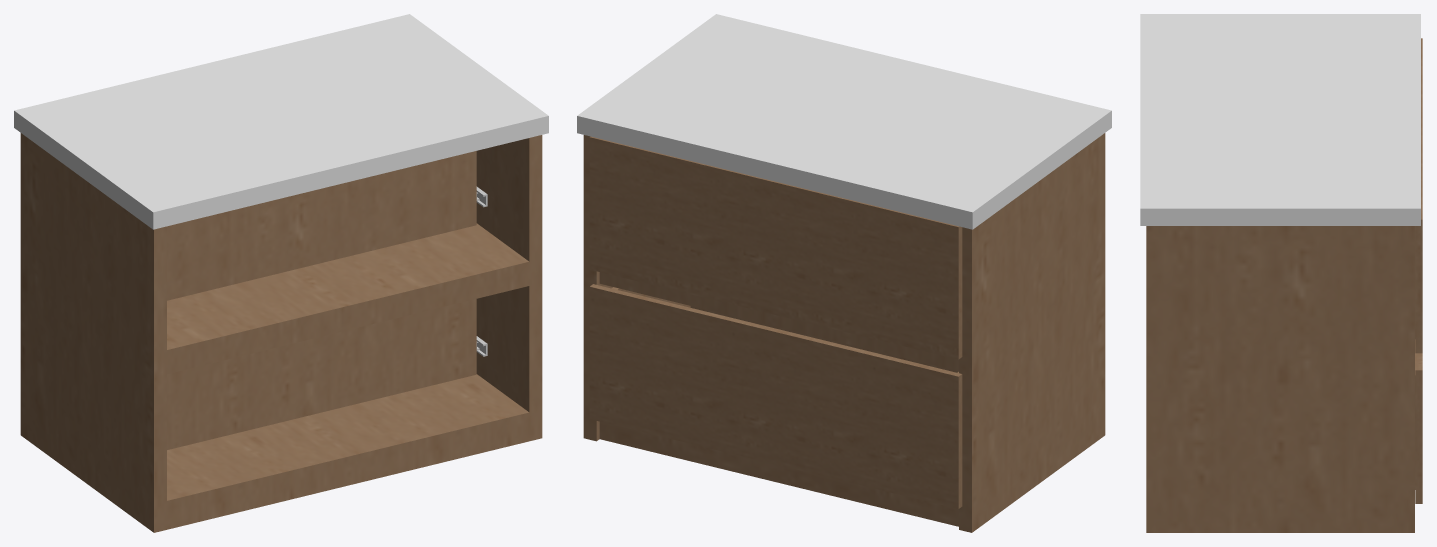
The model's file is BathroomVanity04.fbx.
3 renders of one model, left to right at view 1: azimuth 30°, elevation 25°; view 2: azimuth 150°, elevation 25°; view 3: azimuth 270°, elevation 25°, orthographic.
Visible parts, largest first — view 1: BathroomVanity04, BathroomVanity04Drawer02, BathroomVanity04Drawer01; view 2: BathroomVanity04, BathroomVanity04Drawer02, BathroomVanity04Drawer01; view 3: BathroomVanity04, BathroomVanity04Drawer01, BathroomVanity04Drawer02.
Part boxes in pixels (x1=…): BathroomVanity04: x1=14, y1=14, x2=548, y2=532; BathroomVanity04Drawer02: x1=167, y1=299, x2=479, y2=449; BathroomVanity04Drawer01: x1=167, y1=151, x2=479, y2=300; BathroomVanity04: x1=577, y1=14, x2=1111, y2=532; BathroomVanity04Drawer02: x1=589, y1=284, x2=962, y2=508; BathroomVanity04Drawer01: x1=589, y1=136, x2=962, y2=359; BathroomVanity04: x1=1140, y1=14, x2=1420, y2=532; BathroomVanity04Drawer01: x1=1415, y1=38, x2=1422, y2=353; BathroomVanity04Drawer02: x1=1415, y1=339, x2=1422, y2=503.
Size of the model in its own units: 79.45 by 62.09 by 48.67.
